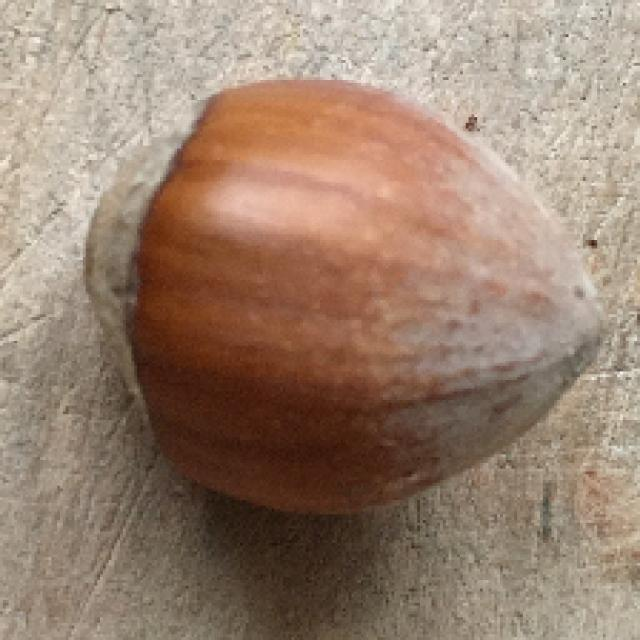qualityHazelnut: (83, 75, 600, 520)
